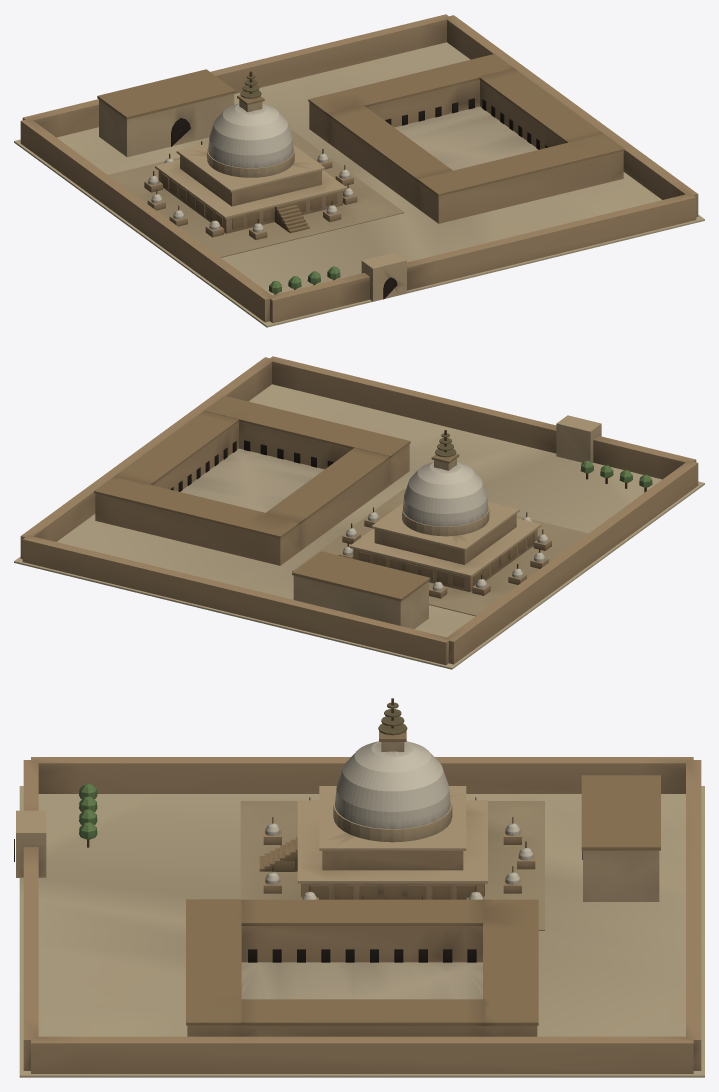
The model's file is stupa.glb.
3 views of the same model, one above another, from view 1: azimuth 30°, elevation 25°; view 2: azimuth 150°, elevation 25°; view 3: azimuth 270°, elevation 25° (orthographic). The views are drawn at different scales.
Parts seen in each view (by area): view 1: p1_monastery, p0_ground, p2_stupa; view 2: p1_monastery, p0_ground, p2_stupa; view 3: p1_monastery, p0_ground, p2_stupa.
Part boxes in pixels (<box>): p1_monastery: <box>20,14,698,323</box>; p0_ground: <box>14,42,704,327</box>; p2_stupa: <box>144,71,357,239</box>; p1_monastery: <box>20,356,698,665</box>; p0_ground: <box>14,384,704,669</box>; p2_stupa: <box>339,430,551,598</box>; p1_monastery: <box>14,757,701,1073</box>; p0_ground: <box>19,786,704,1077</box>; p2_stupa: <box>259,698,535,899</box>.
Size of the model in its own units: 90 by 24.6 by 90.75.
